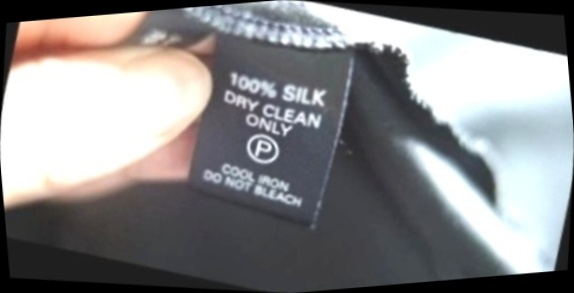dry_clean_any_solvent_except_trichloroethylene: (234, 119, 294, 177)
